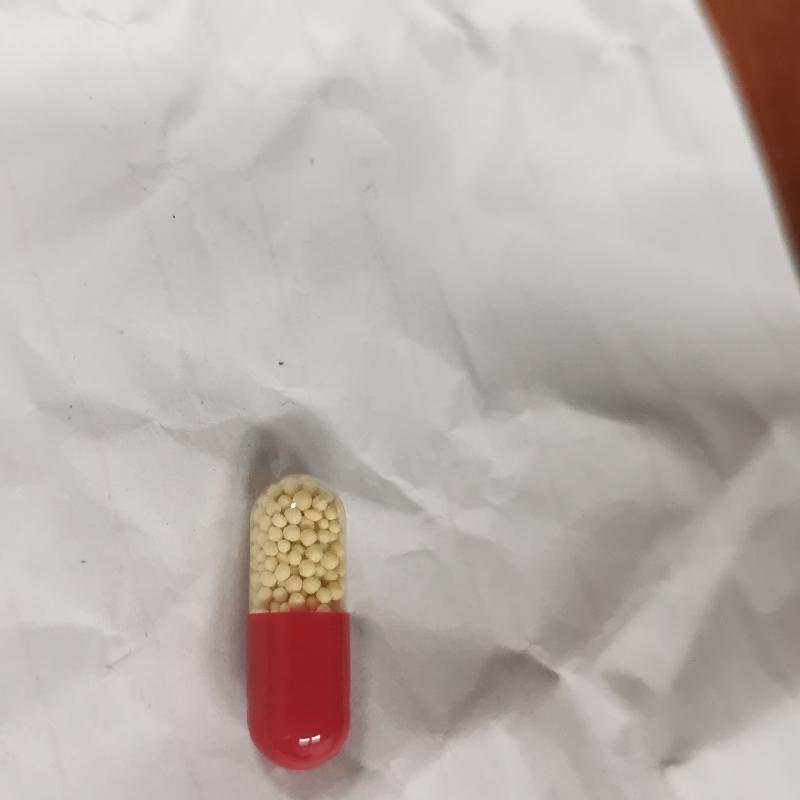pills: (229, 468, 384, 779)
